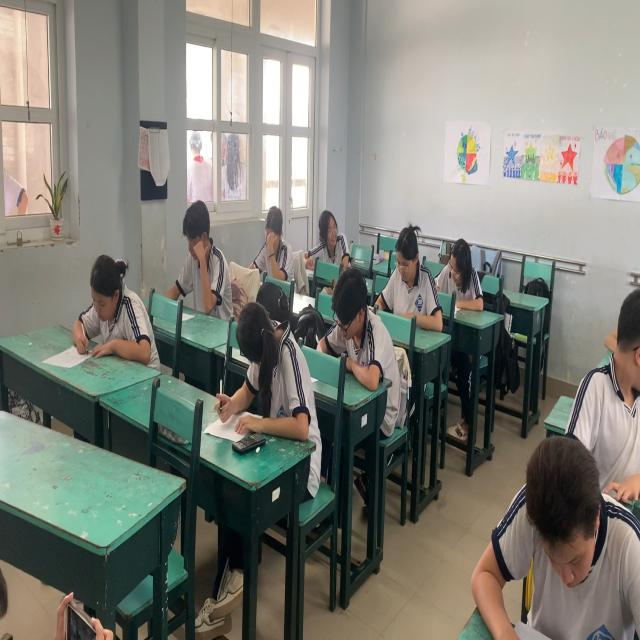cheating: (214, 286, 308, 483)
not_cheating: (478, 423, 632, 640), (573, 278, 640, 504), (321, 250, 399, 433), (68, 227, 148, 392), (165, 186, 227, 329), (384, 204, 438, 339), (253, 177, 301, 290), (304, 186, 358, 284), (444, 221, 481, 314)
